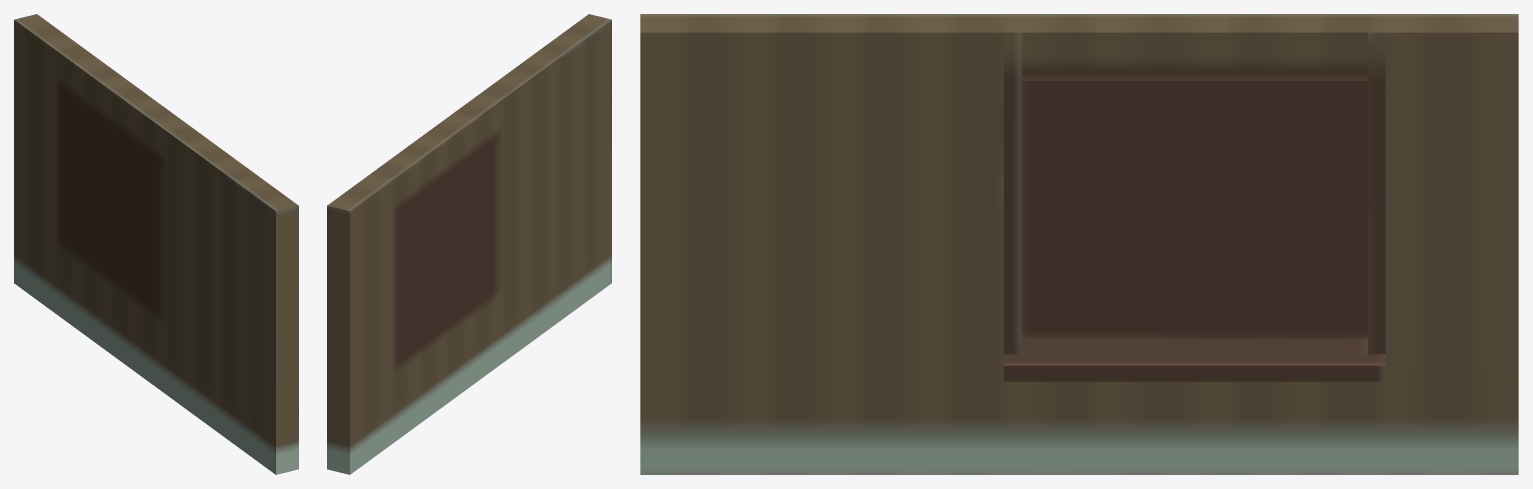
File: WallpaperDarkBrownBackShort_00.obj
The picture shows the model from 3 angles, left to right: view 1: azimuth 30°, elevation 25°; view 2: azimuth 150°, elevation 25°; view 3: azimuth 270°, elevation 25°; orthographic projection. The views are drawn at different scales.
Visible parts, largest first — view 1: WallpaperDarkBrownBackShort_00; view 2: WallpaperDarkBrownBackShort_00; view 3: WallpaperDarkBrownBackShort_00.
Boxes of the visible parts, x1,y1,x2,y2 form: WallpaperDarkBrownBackShort_00: (14,14,298,474); WallpaperDarkBrownBackShort_00: (327,14,611,474); WallpaperDarkBrownBackShort_00: (640,14,1518,474).
Size of the model in its own units: 0.4 by 2.75 by 4.95.
